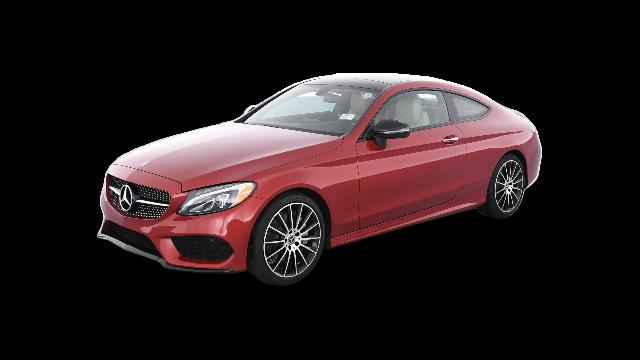benz: (97, 72, 541, 288)
